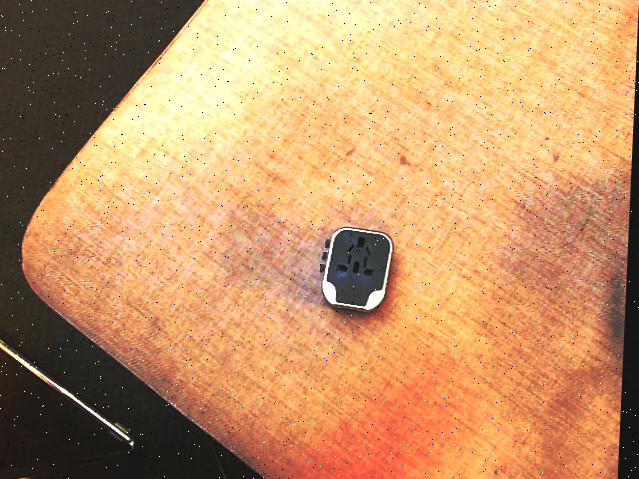adapter: (321, 227, 396, 313)
